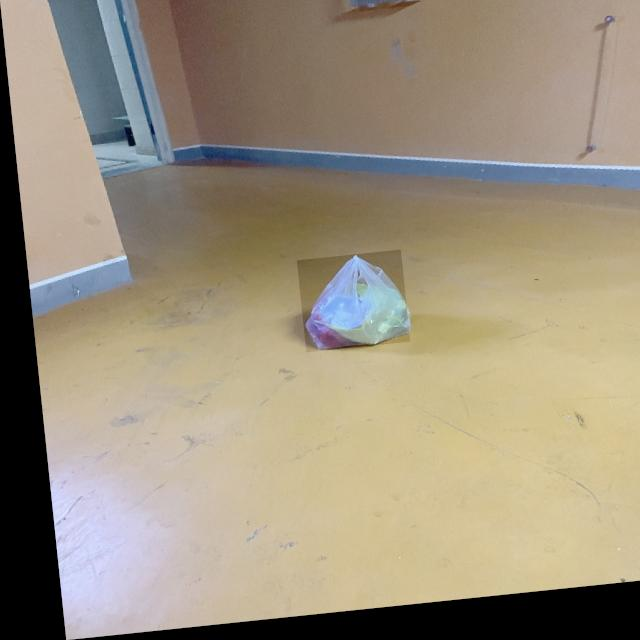garbage: (290, 257, 402, 358)
